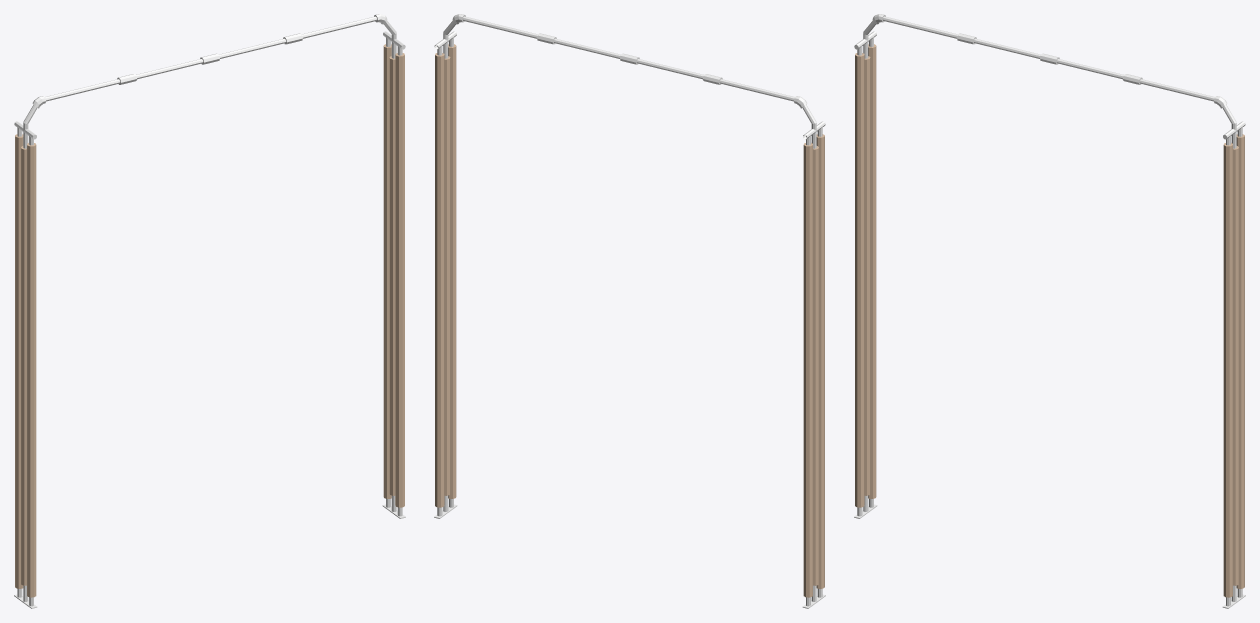
The model's file is SM_Ultraviolet_Lamp.glb.
The picture shows the model from 3 angles, left to right: view 1: azimuth 30°, elevation 25°; view 2: azimuth 150°, elevation 25°; view 3: azimuth 330°, elevation 25°; orthographic projection.
Parts seen in each view (by area): view 1: SM_Ultraviolet_Lamp; view 2: SM_Ultraviolet_Lamp; view 3: SM_Ultraviolet_Lamp.
Boxes of the visible parts, x1=… form: SM_Ultraviolet_Lamp: x1=14, y1=14, x2=405, y2=608; SM_Ultraviolet_Lamp: x1=434, y1=14, x2=825, y2=608; SM_Ultraviolet_Lamp: x1=854, y1=14, x2=1245, y2=608.
Bounding box in the file's own units: 1.84 × 2.34 × 0.156.
